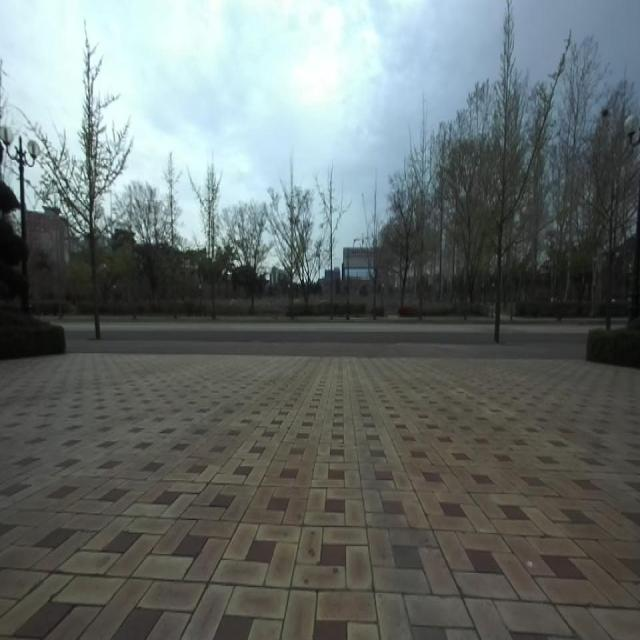sidewalk: (0, 354, 640, 638), (67, 339, 586, 359)
